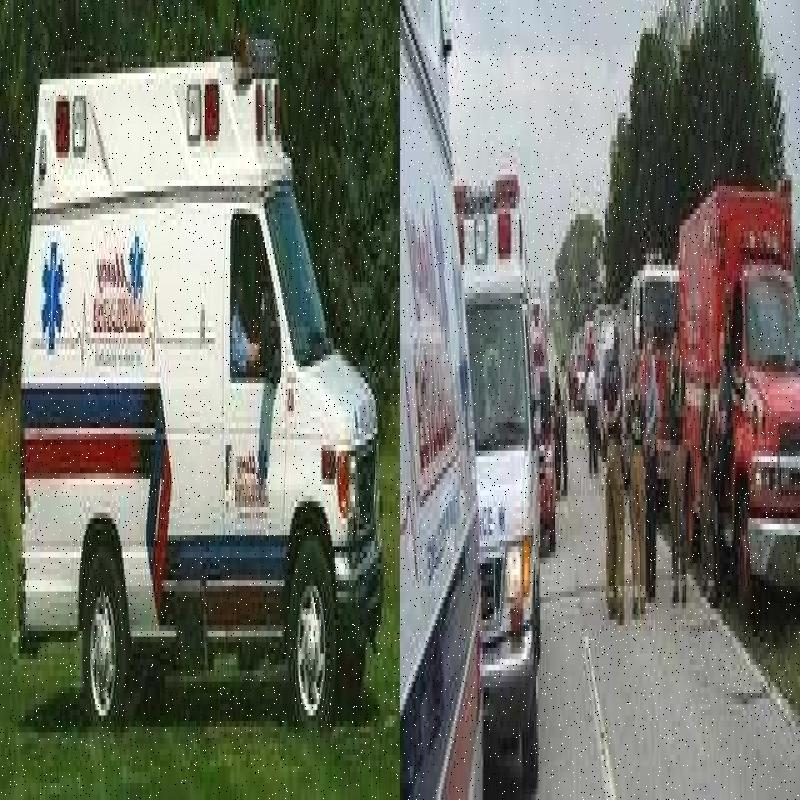AmbulanceSiren: (455, 173, 531, 312), (178, 75, 218, 148), (52, 92, 84, 171)
